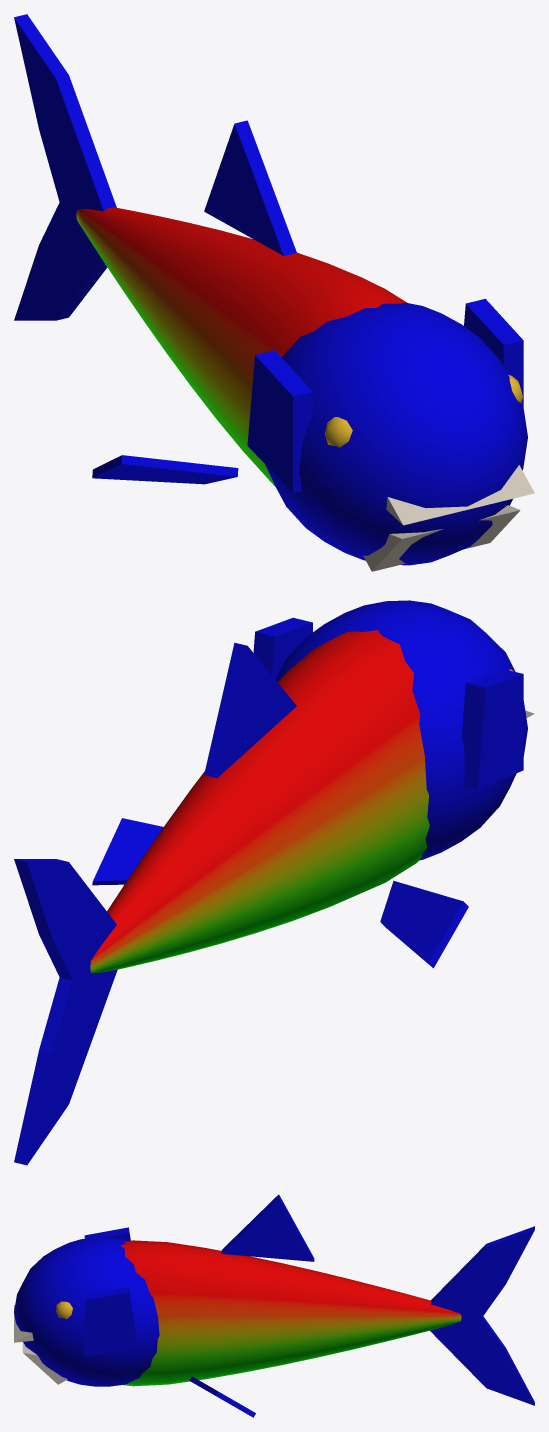
File: fish_dunkle.glb
The picture shows the model from 3 angles, top to bottom: view 1: azimuth 30°, elevation 25°; view 2: azimuth 150°, elevation 25°; view 3: azimuth 270°, elevation 25°; orthographic projection. The views are drawn at different scales.
Parts seen in each view (by area): view 1: Body, Eye; view 2: Body; view 3: Body.
Part boxes in pixels (box(x1,y1,x2,y2)): Body: box(14, 14, 534, 571); Eye: box(325, 375, 522, 447); Body: box(14, 600, 534, 1165); Body: box(14, 1194, 534, 1417).
Bounding box in the file's own units: 0.5277 × 0.52 × 1.18.
